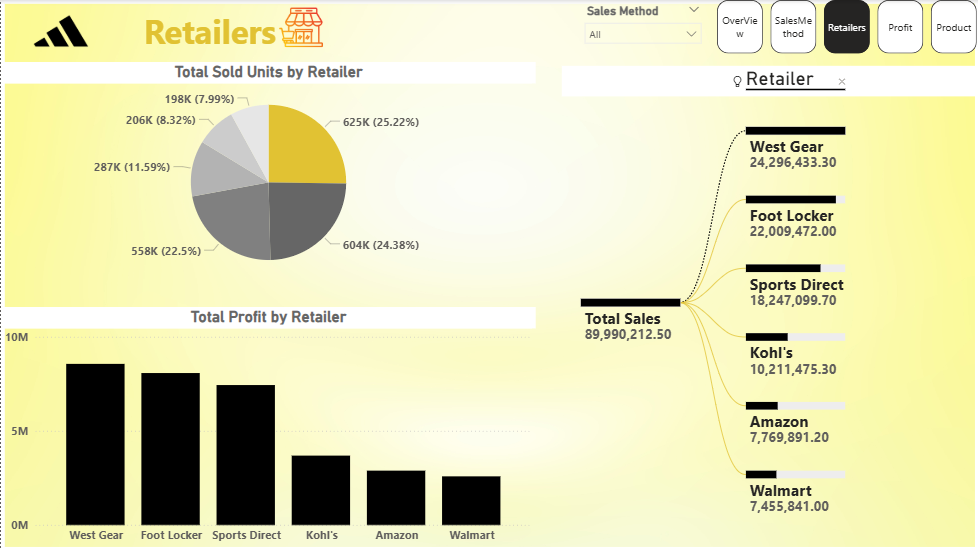

The page's visual inventory and layout, read from the dashboard file:
{"tool":"powerbi","page":{"name":"Retailers","canvas":[1280,720],"ordinal":2},"visuals":[{"type":"image","box":[0,0,1280,720.7],"z":0},{"type":"decompositionTreeVisual","fields":{"ExplainBy":["Fact Data Sales Adidas.Retailer"],"Analyze":["My measures.Total Sales"]},"box":[729,80.6,551,640],"z":1000},{"type":"pieChart","fields":{"Category":["Fact Data Sales Adidas.Retailer"],"Y":["My measures.Total Sold Units"]},"box":[0,80.6,700.5,292.3],"z":2000},{"type":"image","box":[0,0,156.2,80.6],"z":3000},{"type":"clusteredColumnChart","fields":{"Y":["My measures.Total Profit"],"Category":["Fact Data Sales Adidas.Retailer"]},"box":[0,401.5,700.5,319.2],"z":4000},{"type":"image","box":[341,1.7,104.1,68.9],"z":5000},{"type":"textbox","box":[181.4,6.7,184.8,73.9],"z":6000},{"type":"pageNavigator","box":[937.5,0,342.5,70.6],"z":7000},{"type":"slicer","fields":{"Values":["DimSales Method.Sales Method"]},"box":[753.6,0,172.6,70.1],"z":8000}]}

Visuals, with their boxes on the page's 1280x720 design canvas (x1, y1, x2, y2). These are canvas units, not pixel positions in the 978x550 screenshot, which may show the page scaled, cropped or inside an application window:
image: [0,0,1280,721]
decompositionTreeVisual - Fact Data Sales Adidas.Retailer x My measures.Total Sales: [729,81,1280,721]
pieChart - Fact Data Sales Adidas.Retailer x My measures.Total Sold Units: [0,81,700,373]
image: [0,0,156,81]
clusteredColumnChart - My measures.Total Profit x Fact Data Sales Adidas.Retailer: [0,402,700,721]
image: [341,2,445,71]
textbox: [181,7,366,81]
pageNavigator: [938,0,1280,71]
slicer - DimSales Method.Sales Method: [754,0,926,70]
